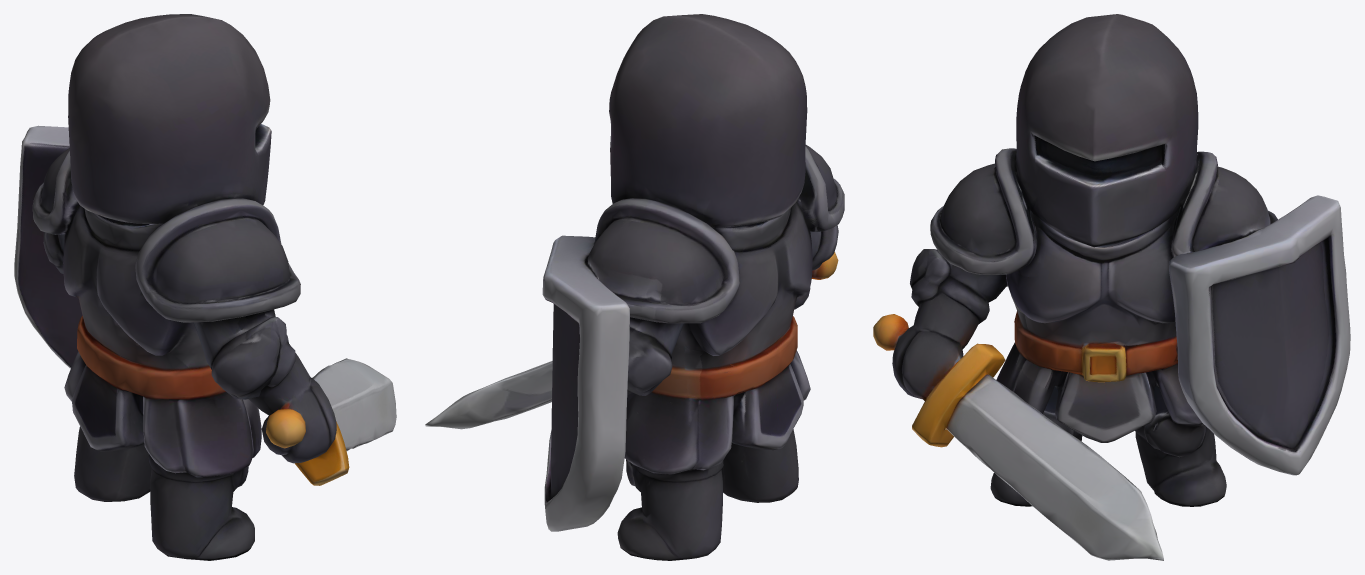
Rendered from ganon_knight_darknut.glb.
3 renders of one model, left to right at view 1: azimuth 30°, elevation 25°; view 2: azimuth 150°, elevation 25°; view 3: azimuth 270°, elevation 25°, orthographic. The views are drawn at different scales.
Visible parts, largest first — view 1: tripo_node_5dcf7c12-ade5-4fc1-9751-b9c5b3b85dd5; view 2: tripo_node_5dcf7c12-ade5-4fc1-9751-b9c5b3b85dd5; view 3: tripo_node_5dcf7c12-ade5-4fc1-9751-b9c5b3b85dd5.
Part boxes in pixels (<box>): tripo_node_5dcf7c12-ade5-4fc1-9751-b9c5b3b85dd5: <box>14,14,396,560</box>; tripo_node_5dcf7c12-ade5-4fc1-9751-b9c5b3b85dd5: <box>425,14,844,560</box>; tripo_node_5dcf7c12-ade5-4fc1-9751-b9c5b3b85dd5: <box>873,14,1350,560</box>.
Size of the model in its own units: 0.6827 by 0.9497 by 0.8829.
Materials: 1 (1 with a texture image).
